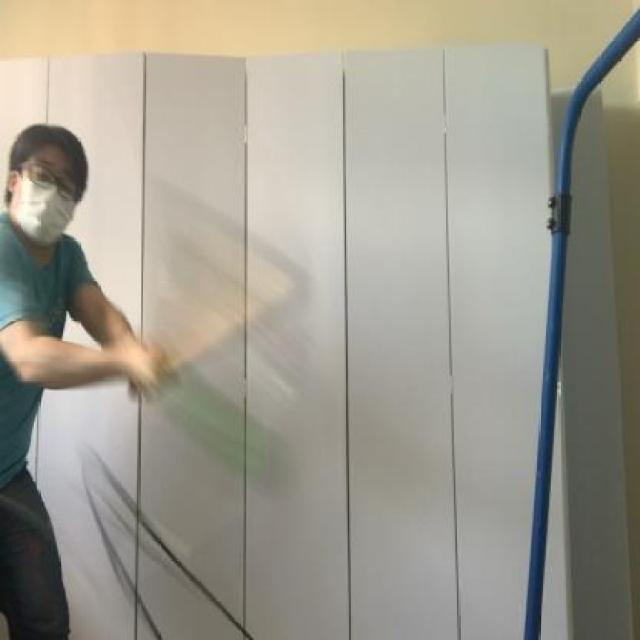baseball: (174, 364, 286, 494)
